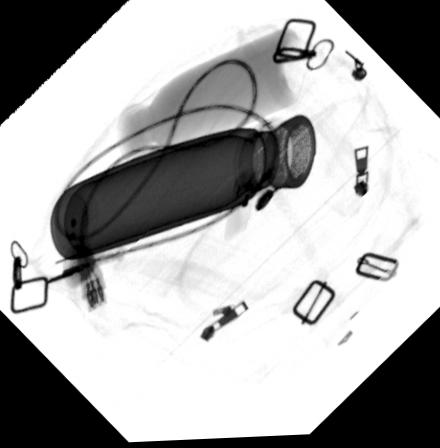Lighter: (221, 166, 259, 245)
